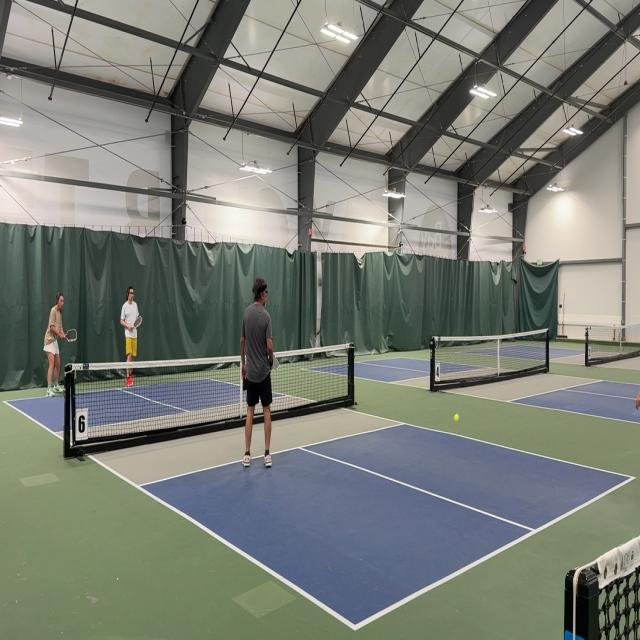ball: (453, 412, 460, 422)
